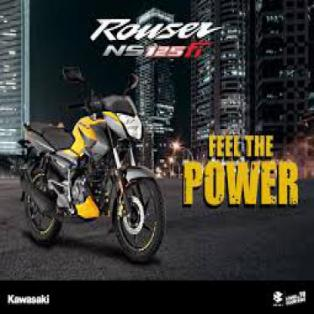Motocicleta: (14, 61, 169, 268)
